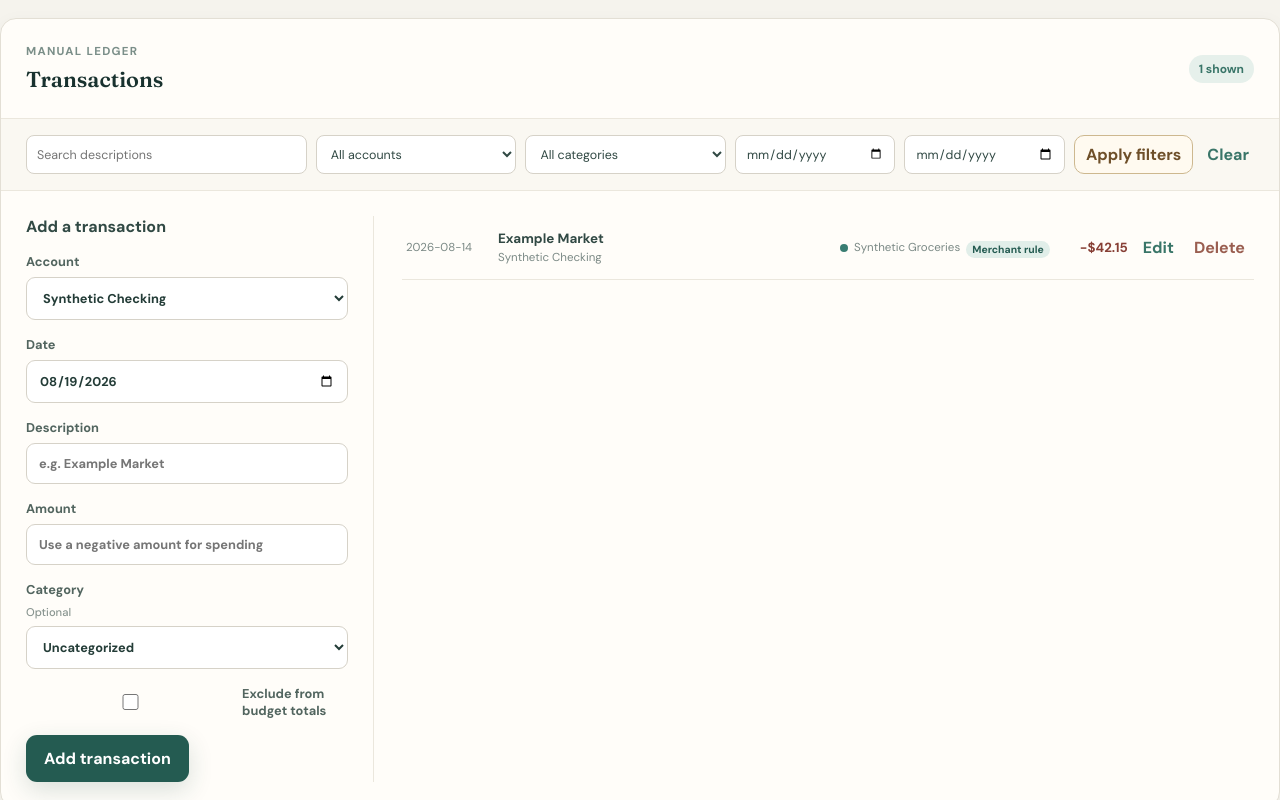
Scenario: TransactionManager › deletes a transaction after confirmation
The image size is (1280, 800).
Expected: the text "Example Market" is shown, [498,230,604,247]
Click the button "Delete": (1219, 248) [1189,232,1250,263]
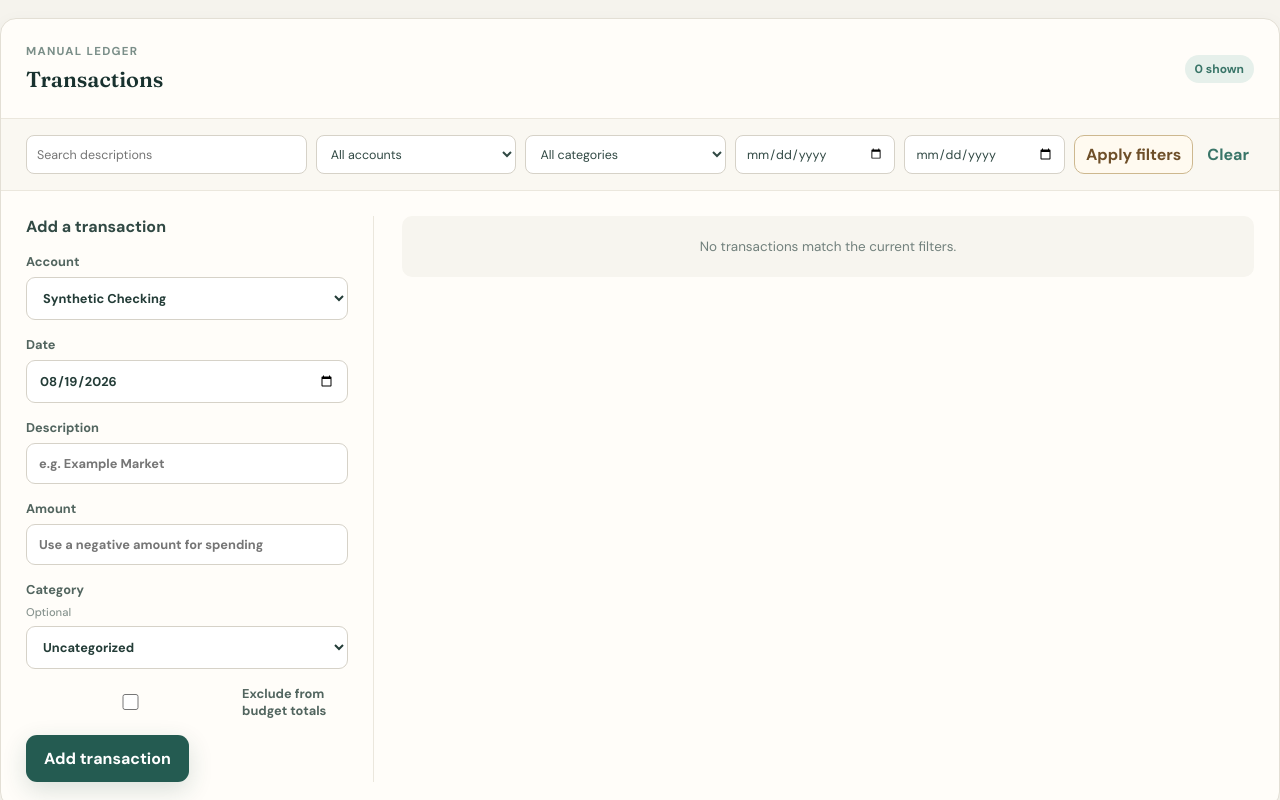
Result: the text "No transactions match the current filters." is shown at [402,216,1254,277]
